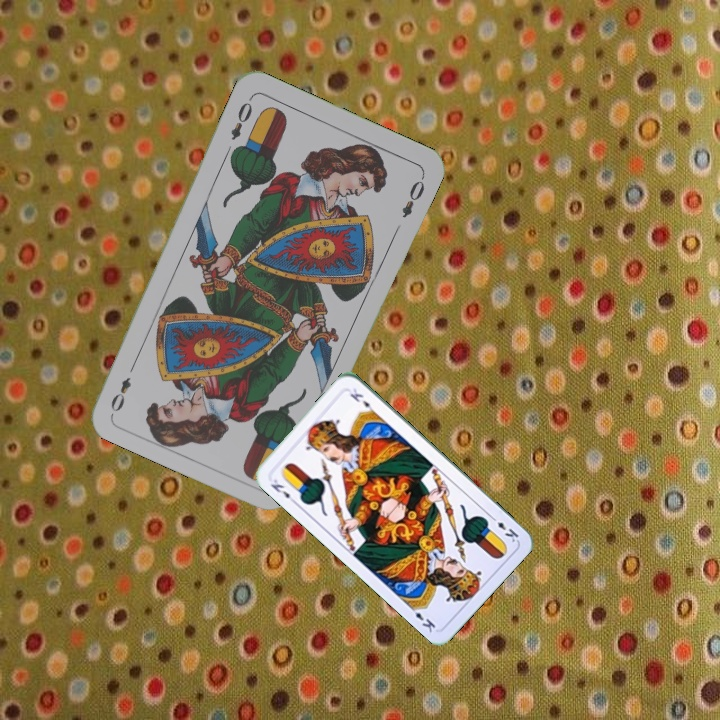EK: (486, 511, 521, 545), (267, 475, 299, 506)
EO: (226, 93, 256, 143)
